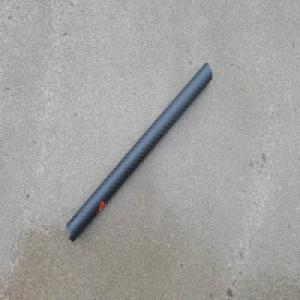LuggagePart: (65, 61, 213, 245)
